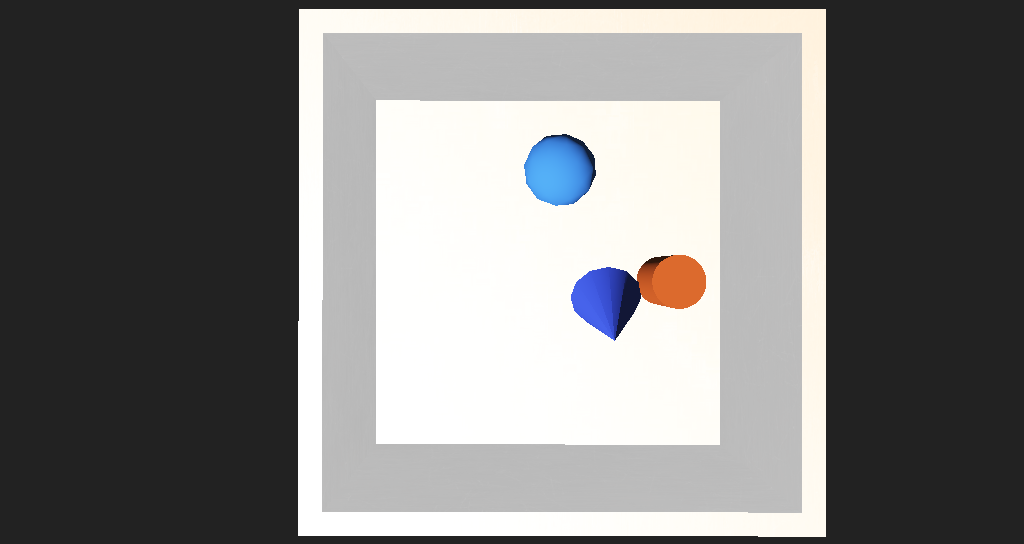cone: (586, 260, 640, 293)
cylinder: (525, 270, 593, 332)
sphere: (488, 181, 549, 229)
